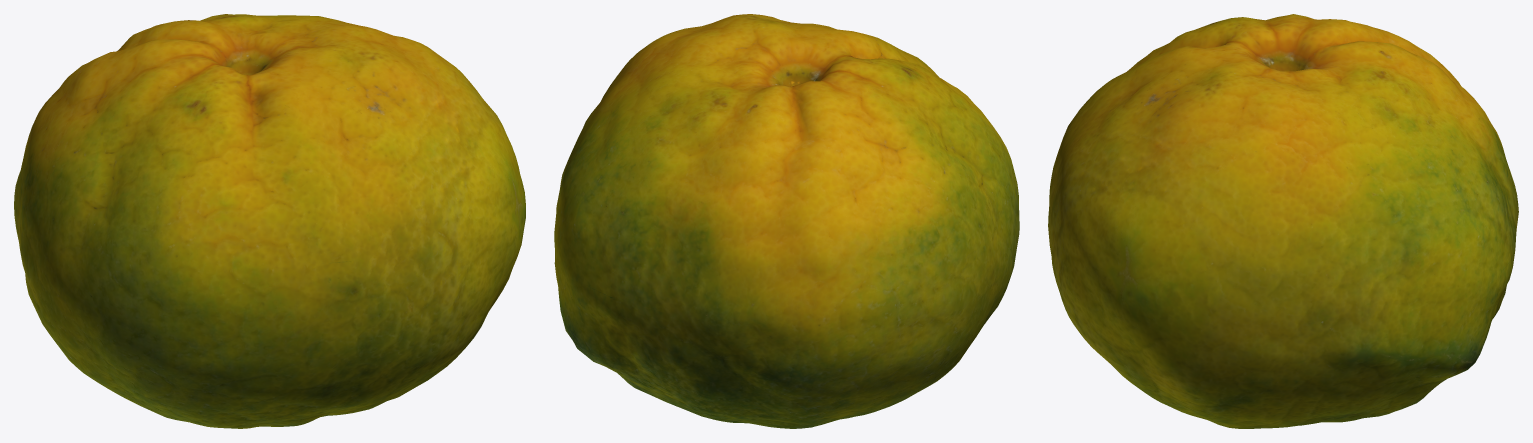
Rendered from 91ea2543f_mandarine.glb.
3 views of the same model, side by side, from view 1: azimuth 30°, elevation 25°; view 2: azimuth 150°, elevation 25°; view 3: azimuth 270°, elevation 25° (orthographic). The views are drawn at different scales.
Visible parts, largest first — view 1: Object_2; view 2: Object_2; view 3: Object_2.
Boxes of the visible parts, x1=… form: Object_2: x1=14, y1=14, x2=525, y2=428; Object_2: x1=554, y1=14, x2=1019, y2=428; Object_2: x1=1048, y1=14, x2=1518, y2=428.
Size of the model in its own units: 7.11 by 5.46 by 6.96.
Materials: 1 (1 with a texture image).
